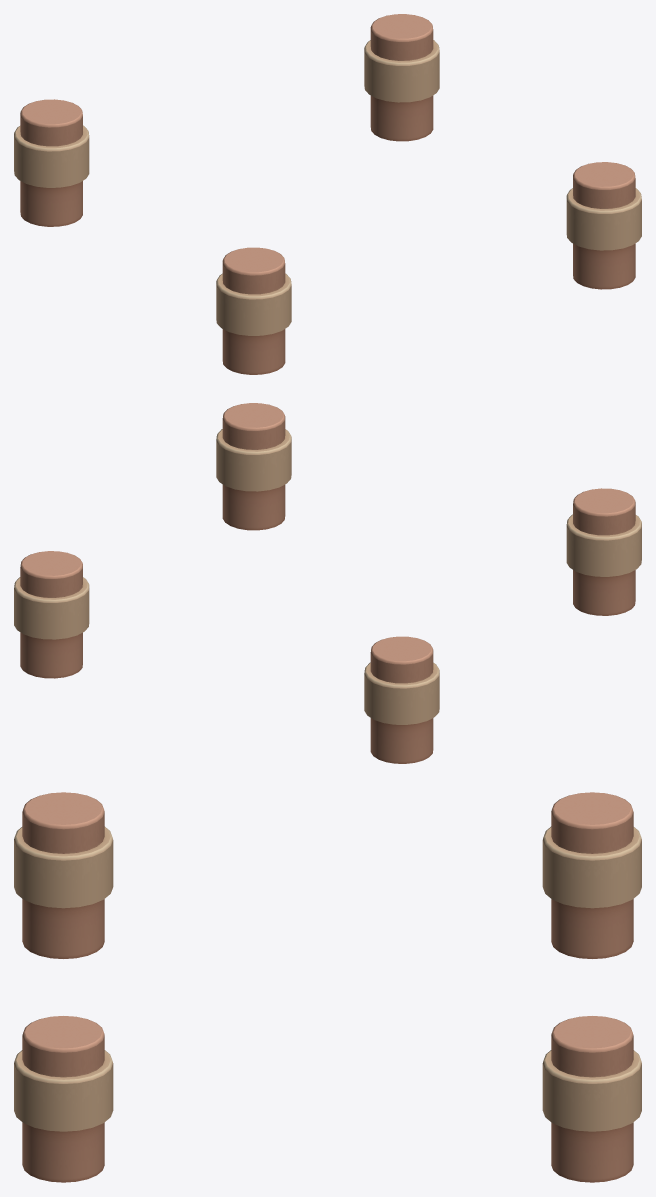
The model's file is Props.fbx.
3 renders of one model, top to bottom at view 1: azimuth 30°, elevation 25°; view 2: azimuth 150°, elevation 25°; view 3: azimuth 270°, elevation 25°, orthographic. The views are drawn at different scales.
Parts seen in each view (by area): view 1: Cylinder-2 (3), Cylinder-2, Cylinder-2 (1), Cylinder-2 (2); view 2: Cylinder-2 (1), Cylinder-2 (2), Cylinder-2 (3), Cylinder-2; view 3: Cylinder-2 (1), Cylinder-2 (3), Cylinder-2, Cylinder-2 (2).
Part boxes in pixels (x1,y1,x2,y2): Cylinder-2 (3): (364,14,439,141); Cylinder-2: (216,247,291,374); Cylinder-2 (1): (566,162,641,289); Cylinder-2 (2): (14,99,89,226); Cylinder-2 (1): (216,403,291,530); Cylinder-2 (2): (364,636,439,763); Cylinder-2 (3): (14,551,89,678); Cylinder-2: (566,488,641,615); Cylinder-2 (1): (14,1016,113,1182); Cylinder-2 (3): (542,1016,641,1182); Cylinder-2: (14,792,113,958); Cylinder-2 (2): (542,792,641,958).
Size of the model in its own units: 21.38 by 5 by 21.38.
